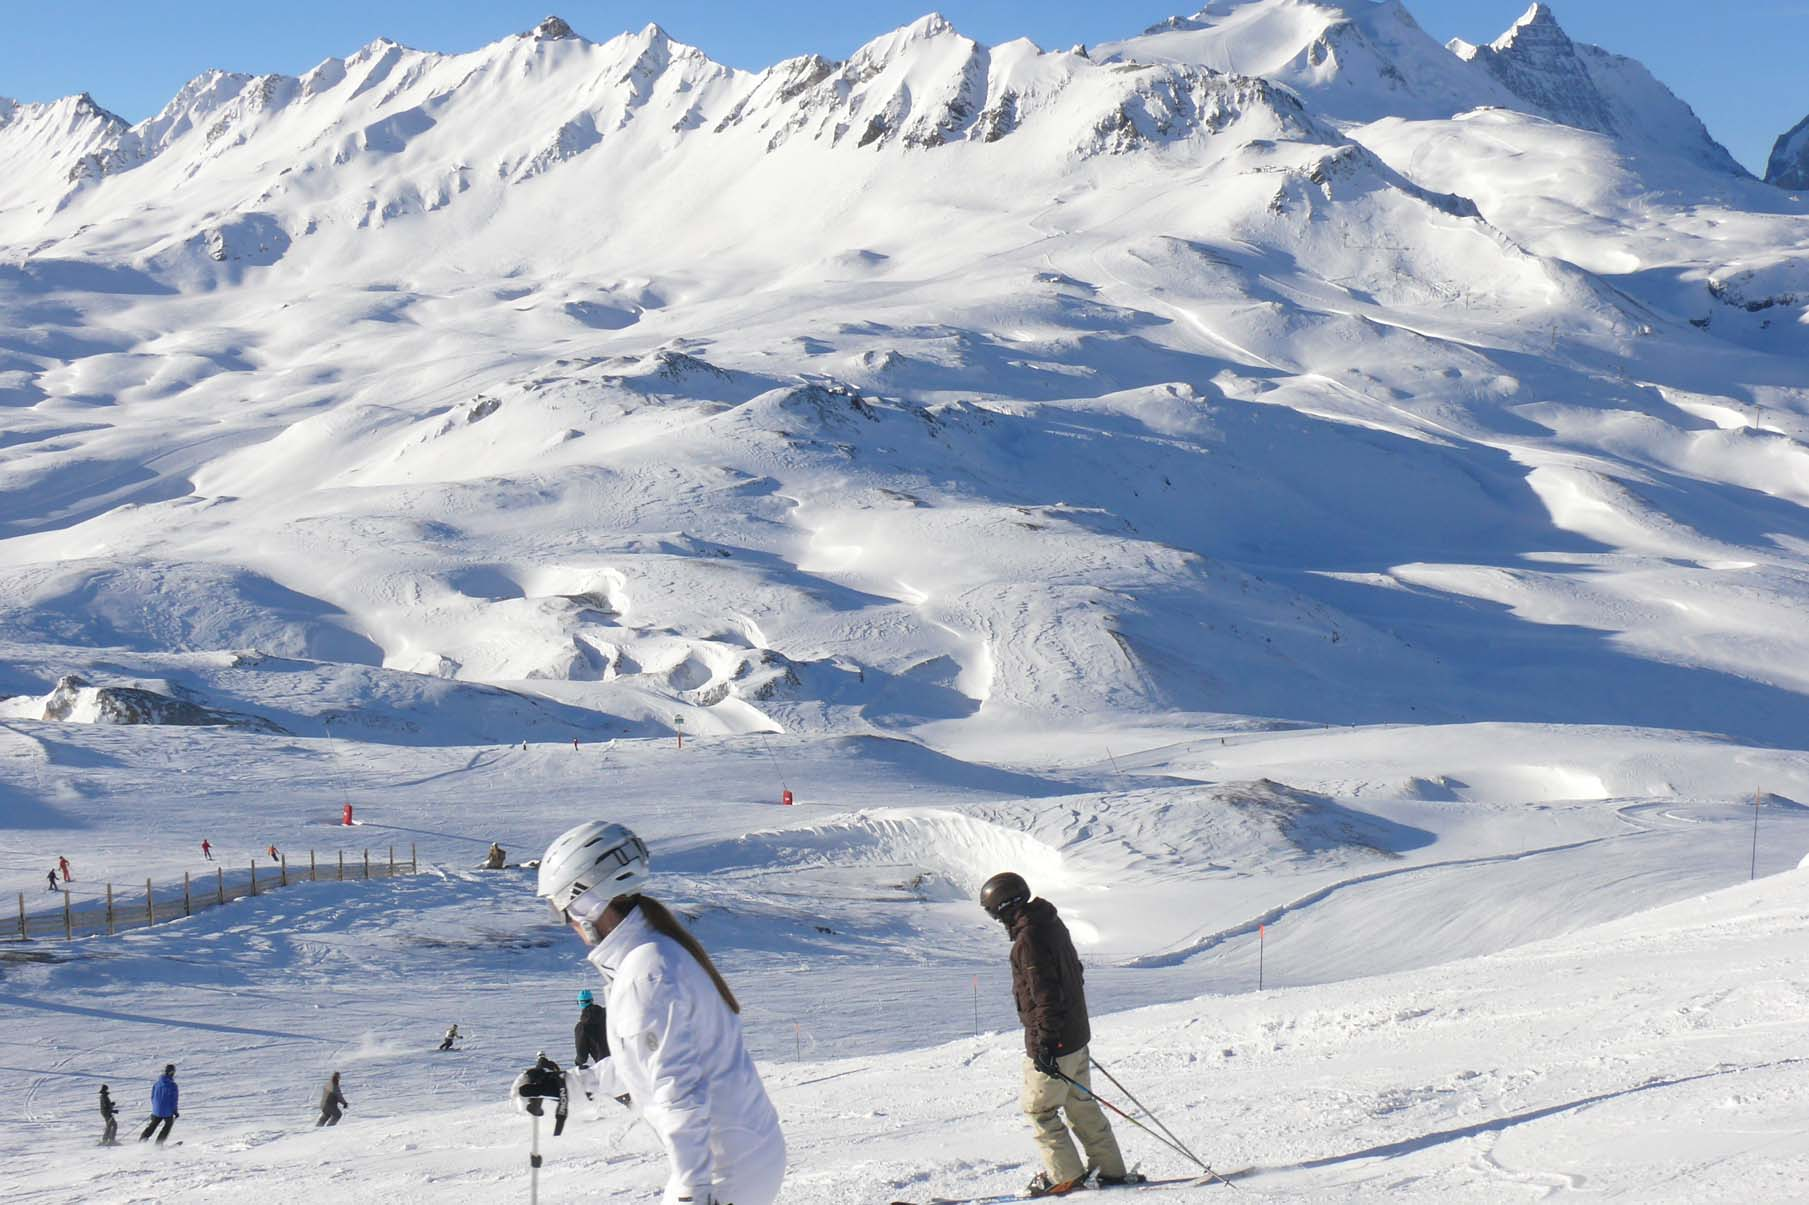skier: (885, 874, 1237, 1201)
